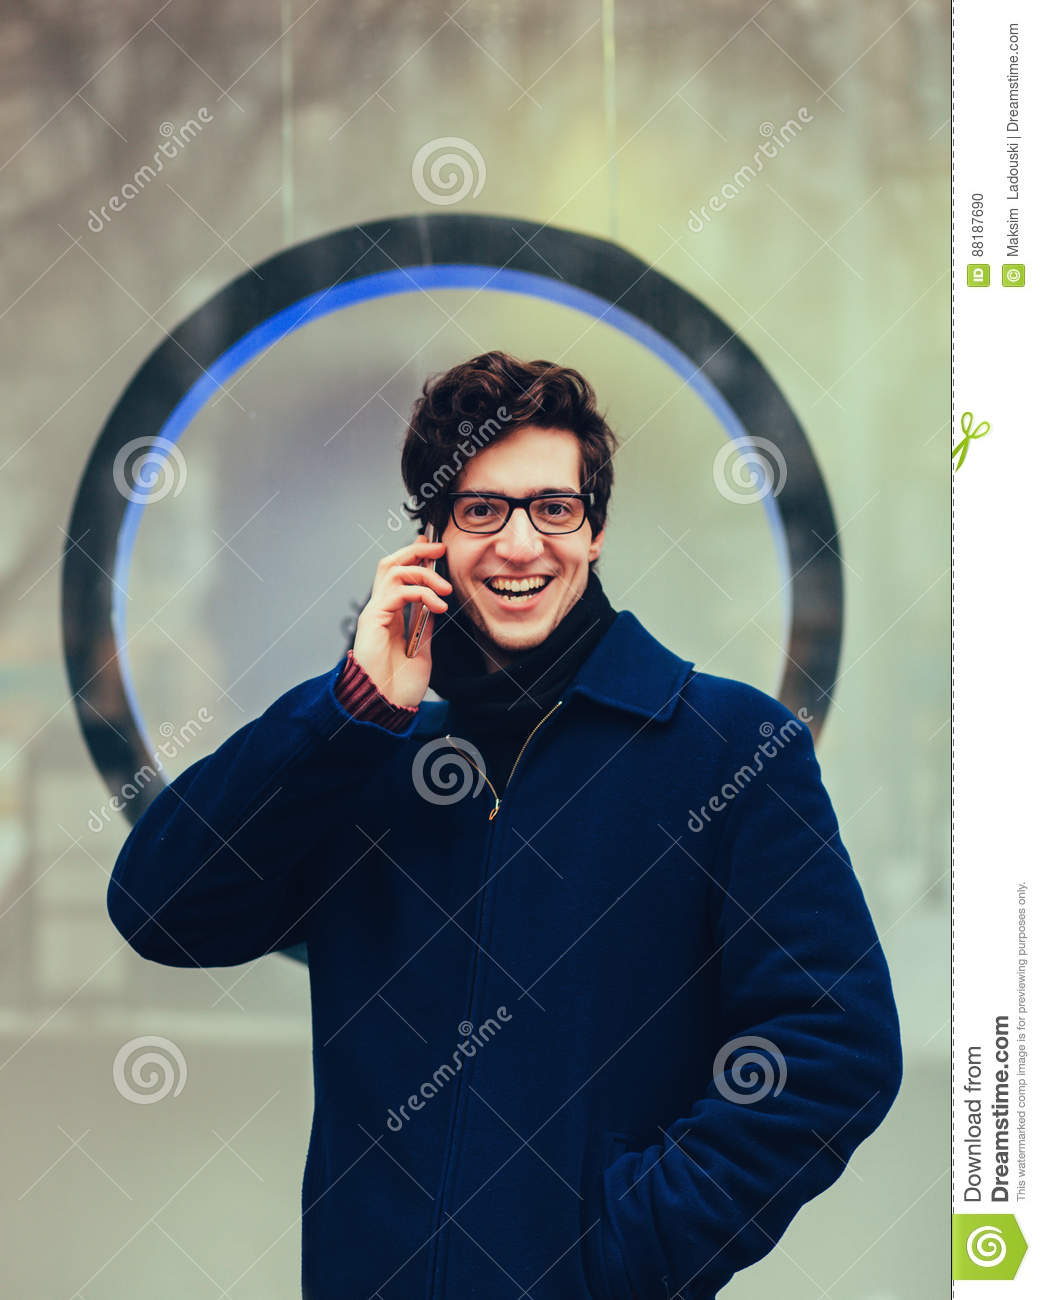phone: (402, 500, 447, 663)
talk: (348, 473, 587, 721)
